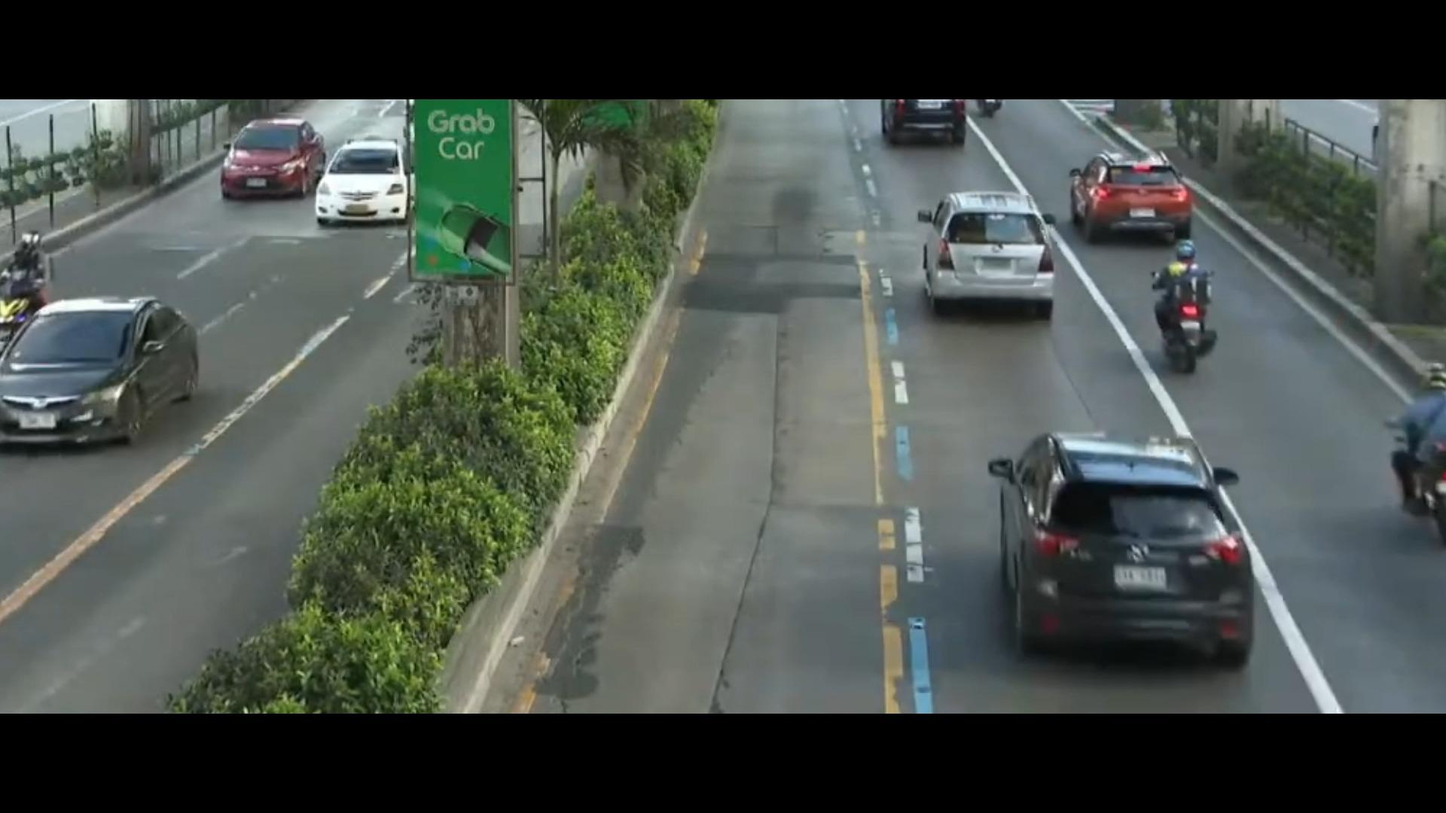Motorcycle: (1134, 230, 1226, 387), (1384, 352, 1446, 540), (0, 222, 57, 352)
SUV: (970, 397, 1300, 671), (891, 174, 1074, 332), (1072, 130, 1213, 256), (199, 108, 328, 215)
Sedan: (0, 288, 228, 465), (301, 126, 422, 244)
